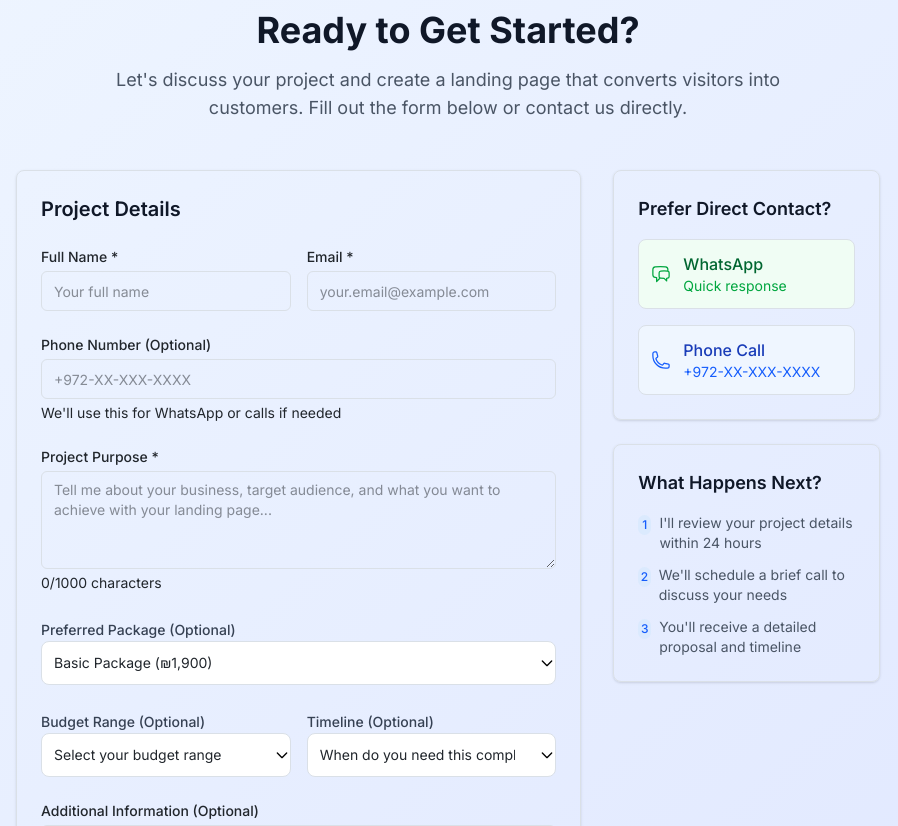
Test: Contact Component › shows character count for text areas
Type "This is a test project description" into the text box labelled "Project Purpose *" at x=299, y=520, box [41,471,556,569]
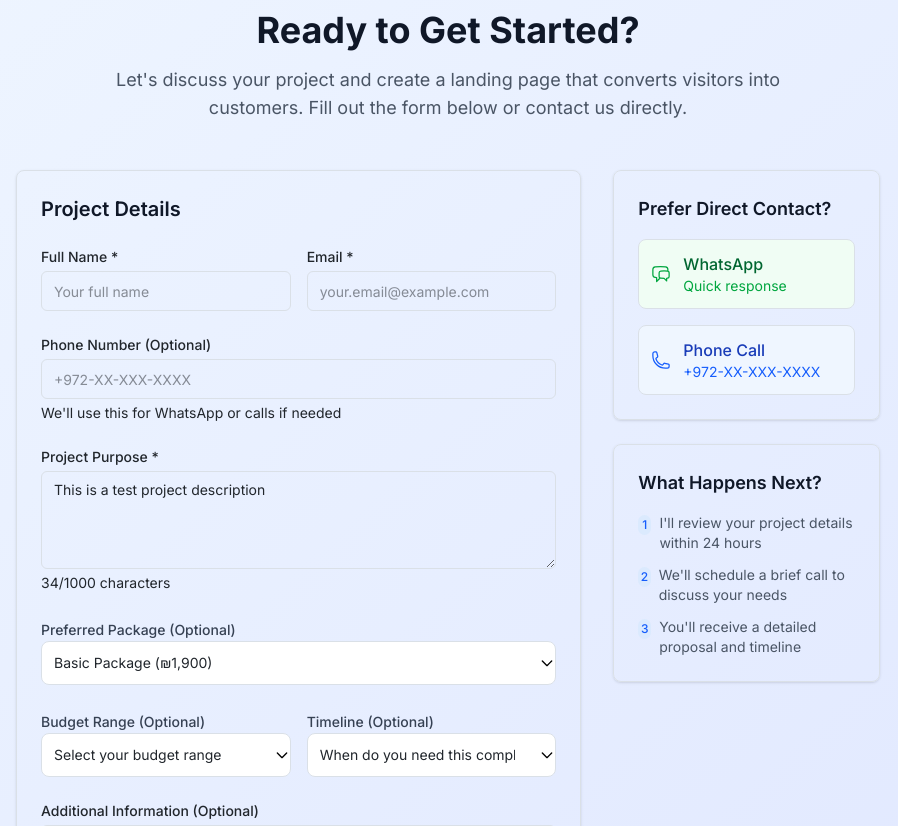
Now the text "34/1000 characters" is shown, box [41,574,170,591]
